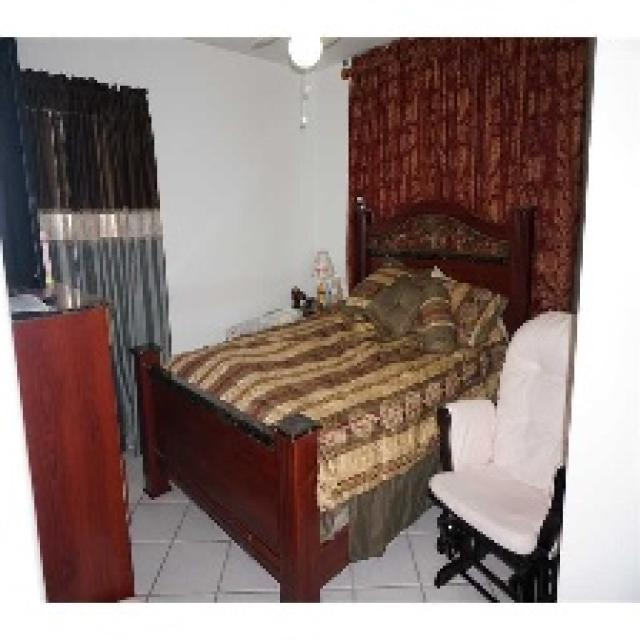Bed: (129, 194, 534, 600)
